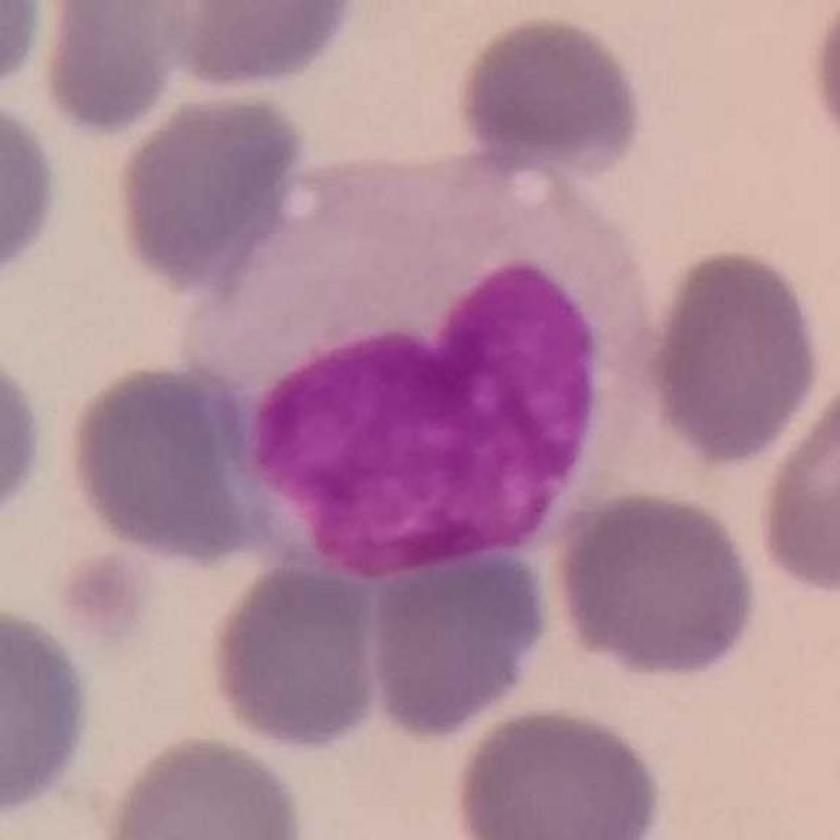monocyte: (189, 145, 670, 597)
